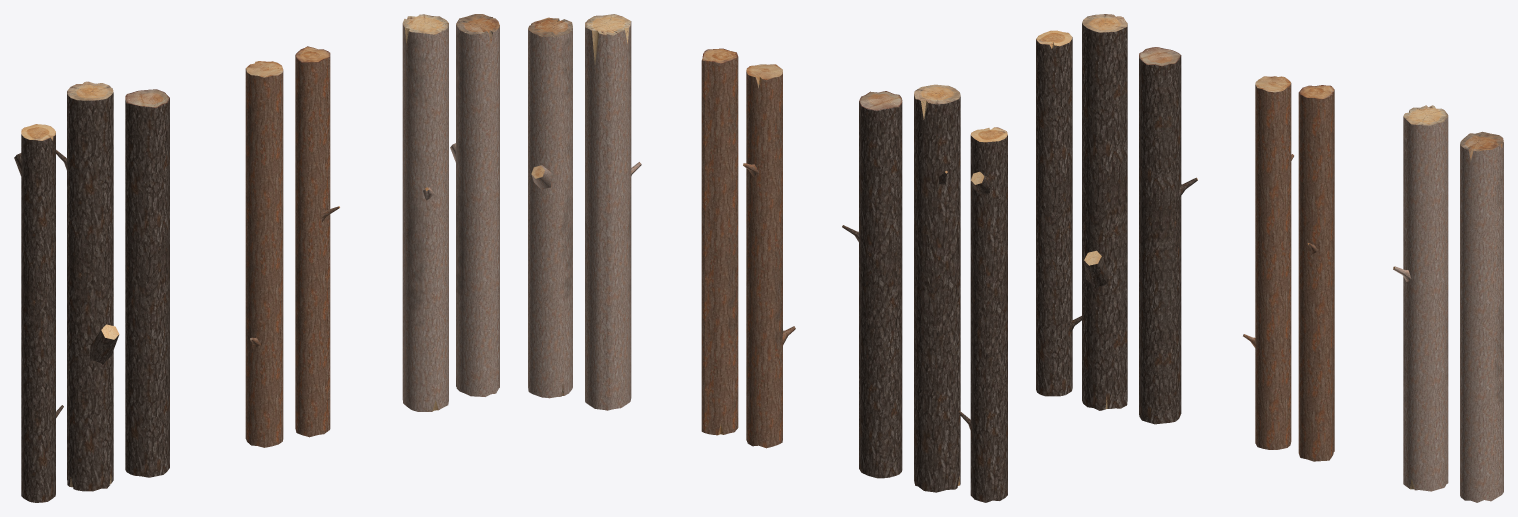
The model's file is wood log.fbx.
3 views of the same model, side by side, from view 1: azimuth 30°, elevation 25°; view 2: azimuth 150°, elevation 25°; view 3: azimuth 330°, elevation 25° (orthographic). The views are drawn at different scales.
Visible parts, largest first — view 1: Wood Log.002, Wood Log.003, Wood Log, Wood Log.001, Wood Log.005, Wood Log.004, Wood Log.006; view 2: Wood Log.002, Wood Log.003, Wood Log, Wood Log.001, Wood Log.004, Wood Log.005, Wood Log.006; view 3: Wood Log.002, Wood Log.003, Wood Log, Wood Log.001, Wood Log.004, Wood Log.005, Wood Log.006.
Part boxes in pixels (left/top/right/bottom): Wood Log.002: left=56, top=81, right=119, bottom=491; Wood Log.003: left=402, top=14, right=448, bottom=411; Wood Log: left=125, top=89, right=169, bottom=477; Wood Log.001: left=450, top=14, right=499, bottom=396; Wood Log.005: left=245, top=61, right=283, bottom=447; Wood Log.004: left=295, top=46, right=339, bottom=437; Wood Log.006: left=14, top=124, right=63, bottom=502; Wood Log.002: left=914, top=84, right=960, bottom=492; Wood Log.003: left=585, top=14, right=641, bottom=410; Wood Log: left=842, top=91, right=902, bottom=478; Wood Log.001: left=528, top=17, right=572, bottom=398; Wood Log.004: left=701, top=48, right=738, bottom=435; Wood Log.005: left=743, top=64, right=795, bottom=448; Wood Log.006: left=957, top=127, right=1007, bottom=502; Wood Log.002: left=1082, top=14, right=1127, bottom=410; Wood Log.003: left=1393, top=105, right=1448, bottom=491; Wood Log: left=1139, top=47, right=1197, bottom=424; Wood Log.001: left=1460, top=131, right=1503, bottom=502; Wood Log.004: left=1298, top=85, right=1334, bottom=461; Wood Log.005: left=1243, top=76, right=1293, bottom=449; Wood Log.006: left=1036, top=30, right=1081, bottom=396.
Size of the model in its own units: 430 by 338 by 62.78.
2 materials, 2 textured.
